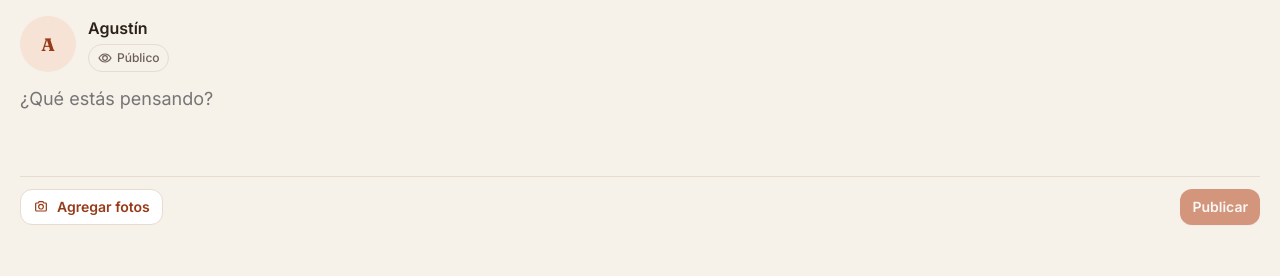
Test: PostComposerForm › muestra el error sin cerrar el formulario
Type "hola" into the text box with placeholder "¿Qué estás pensando?" at (640,124), box left=20, top=84, right=1260, bottom=164
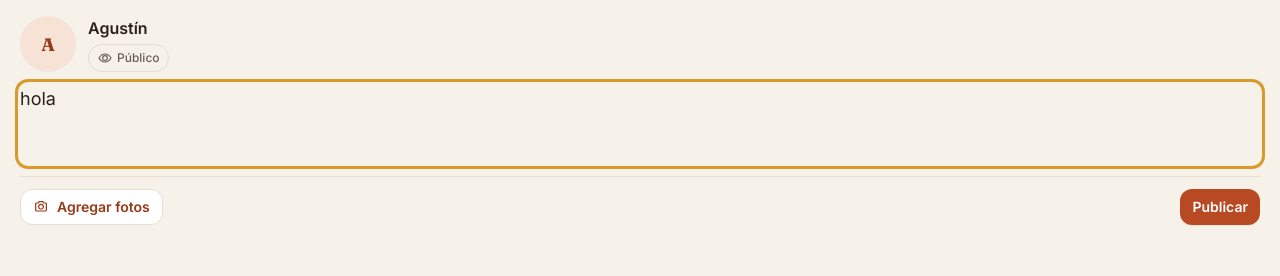
Click the button "Publicar" at (1220,207), box left=1180, top=189, right=1260, bottom=225
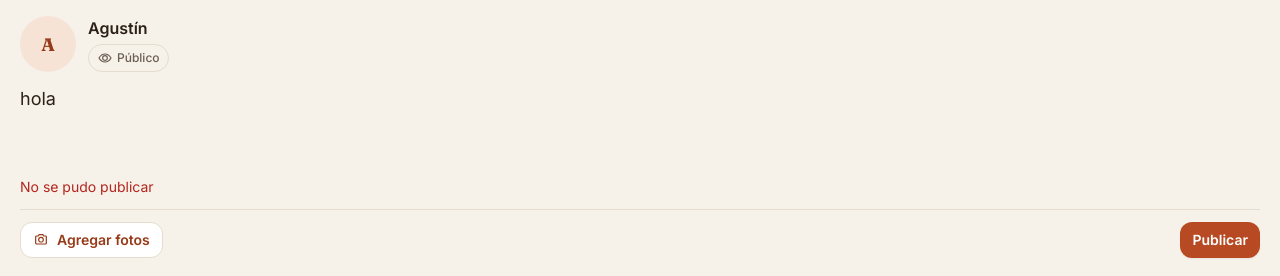
Result: the message reads "No se pudo publicar" at left=20, top=178, right=154, bottom=195
